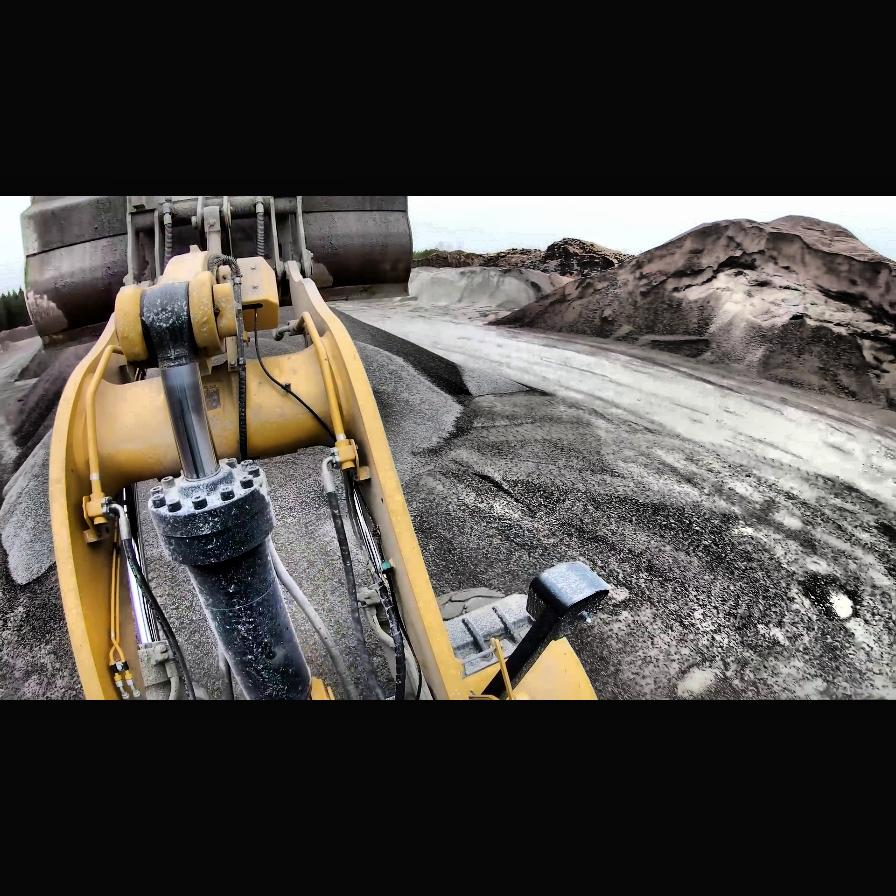anchor: (116, 254, 284, 365)
pile of gravel: (496, 215, 896, 417), (419, 266, 552, 312)
